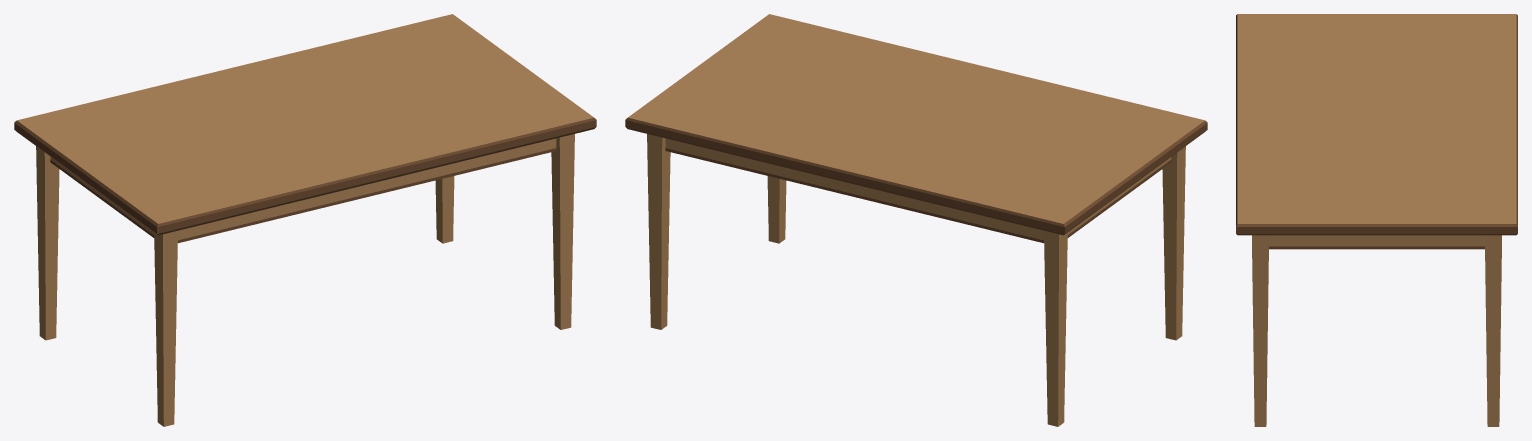
Rendered from FN_Table_Dining.obj.
3 renders of one model, left to right at view 1: azimuth 30°, elevation 25°; view 2: azimuth 150°, elevation 25°; view 3: azimuth 270°, elevation 25°, orthographic.
Parts seen in each view (by area): view 1: FN_Table_Dining; view 2: FN_Table_Dining; view 3: FN_Table_Dining.
Part boxes in pixels (x1,y1,x2,y2): FN_Table_Dining: (14,14,596,426); FN_Table_Dining: (625,14,1207,426); FN_Table_Dining: (1236,14,1517,426).
Bounding box in the file's own units: 1.6 × 0.74 × 0.9.
Materials: 1 (1 with a texture image).
